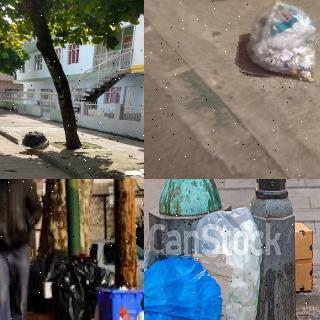Garbage: (190, 204, 259, 320), (236, 0, 320, 81), (144, 249, 229, 320), (18, 128, 50, 150), (102, 304, 144, 320)
